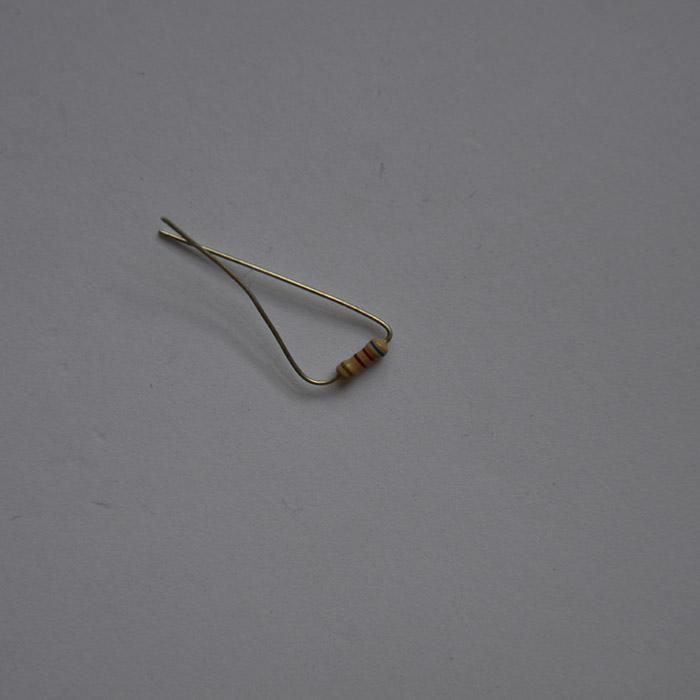resistor: (338, 336, 389, 379)
